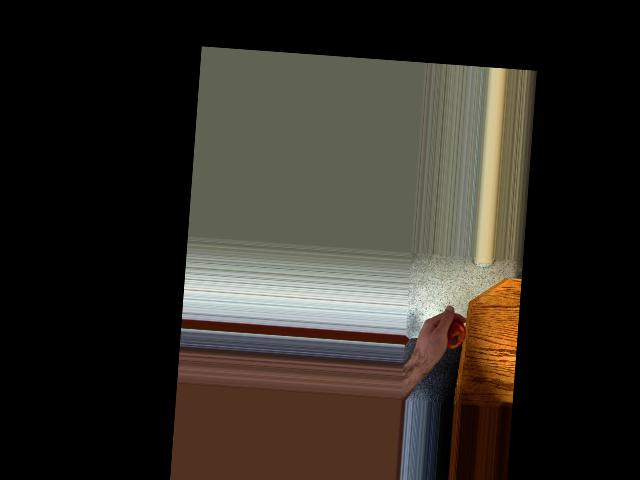apple: (433, 315, 467, 356)
